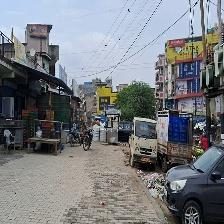Bike: (81, 122, 93, 151)
Car: (130, 115, 159, 170)
Cart: (104, 112, 120, 145)
Obstacle: (25, 136, 61, 155)
Road: (0, 143, 169, 223)
